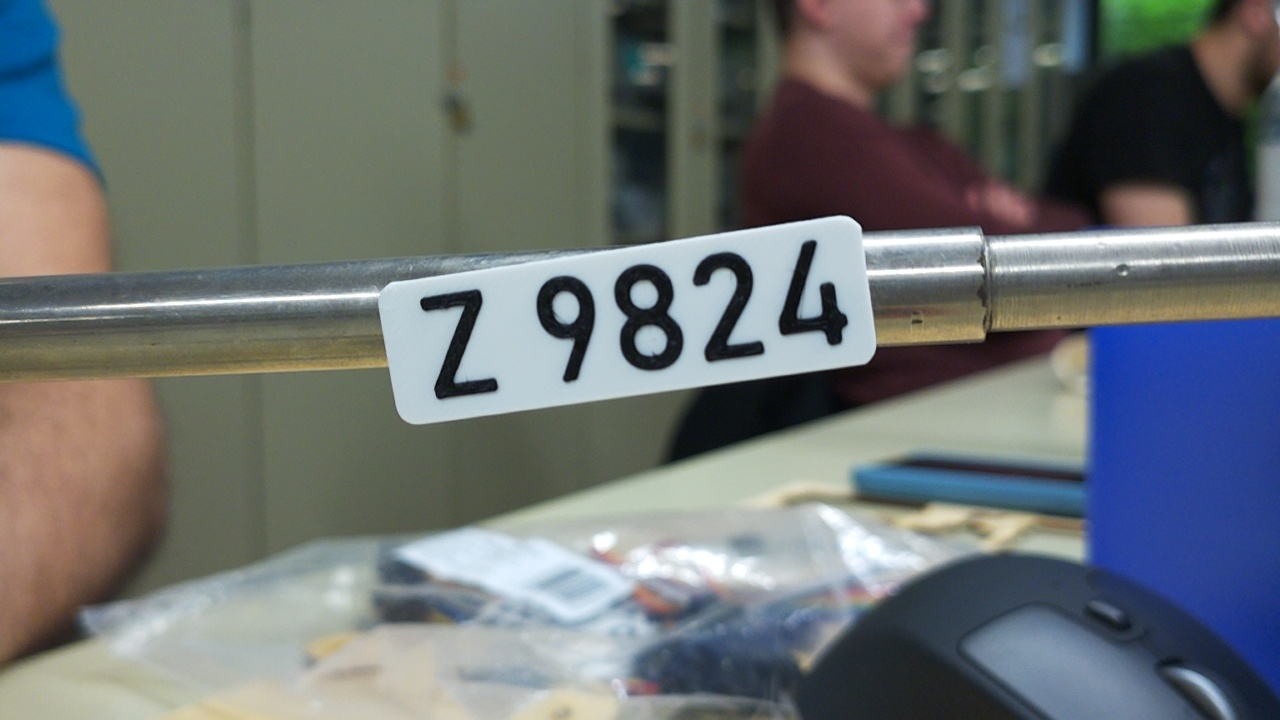license_plate: (375, 214, 881, 426)
